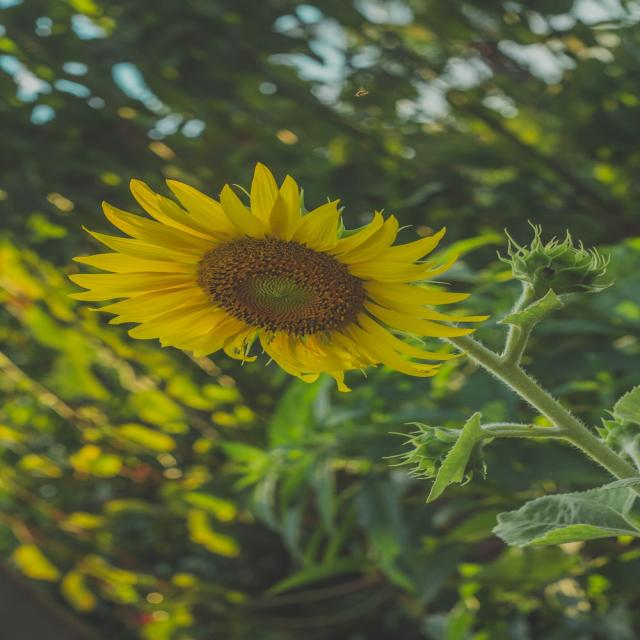sunflower: (61, 152, 534, 401)
